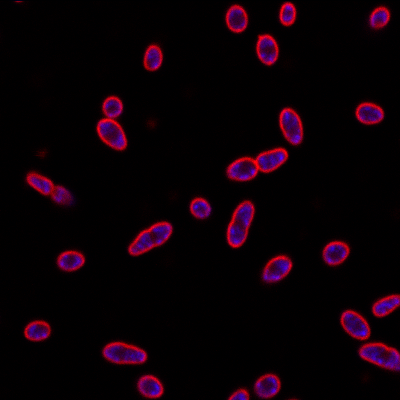Mecillinam: (225, 147, 289, 181), (128, 221, 172, 257), (226, 200, 256, 247), (101, 341, 147, 365), (339, 309, 372, 341), (96, 118, 127, 151), (278, 107, 303, 145), (254, 34, 278, 67), (355, 101, 385, 126), (323, 241, 350, 268), (371, 293, 400, 318), (226, 4, 248, 33), (56, 250, 85, 272), (22, 320, 51, 341), (143, 43, 163, 72), (279, 1, 297, 26)
Oblique: (24, 172, 74, 206), (359, 342, 400, 372), (262, 255, 291, 283), (254, 373, 282, 398), (136, 375, 165, 399), (369, 7, 391, 30), (190, 198, 212, 220), (103, 96, 123, 117)
